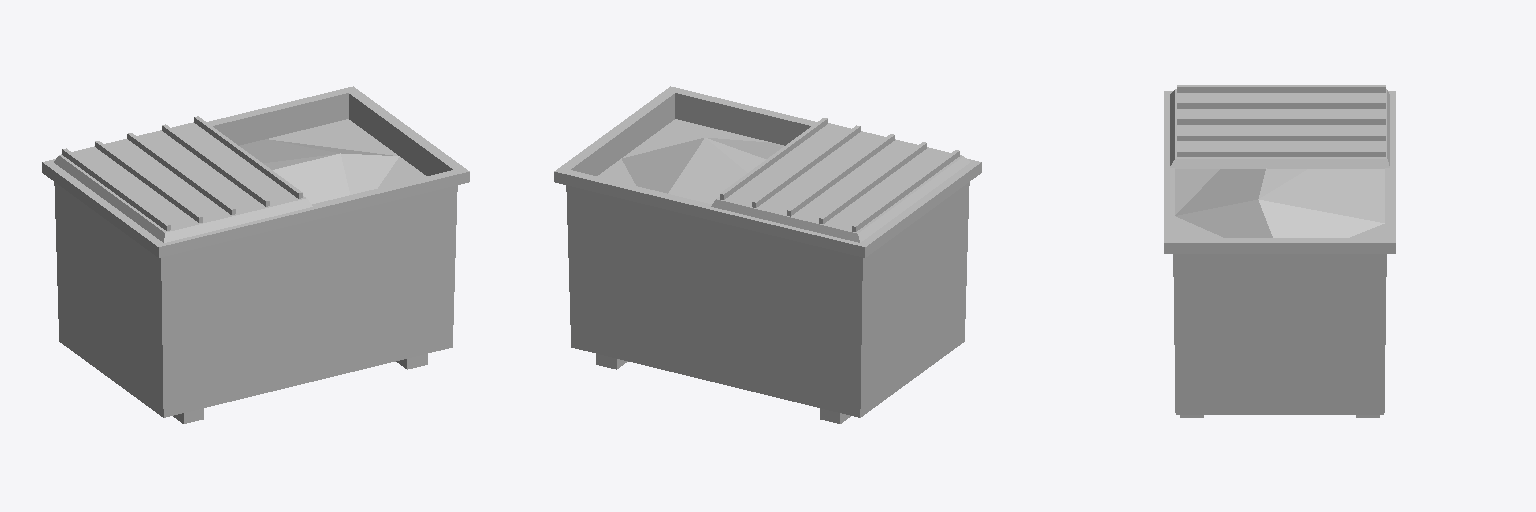
The model's file is trash.obj.
3 views of the same model, side by side, from view 1: azimuth 30°, elevation 25°; view 2: azimuth 150°, elevation 25°; view 3: azimuth 270°, elevation 25° (orthographic).
Visible parts, largest first — view 1: Dumpster, Dumpster Dumpster_T; view 2: Dumpster, Dumpster Dumpster_T; view 3: Dumpster, Dumpster Dumpster_T.
Part boxes in pixels (x1,y1,x2,y2): Dumpster: (42, 86, 469, 423); Dumpster Dumpster_T: (54, 116, 312, 242); Dumpster: (554, 86, 981, 423); Dumpster Dumpster_T: (711, 118, 969, 242); Dumpster: (1164, 91, 1395, 417); Dumpster Dumpster_T: (1170, 85, 1389, 168).
Bounding box in the file's own units: 196 × 123 × 127.